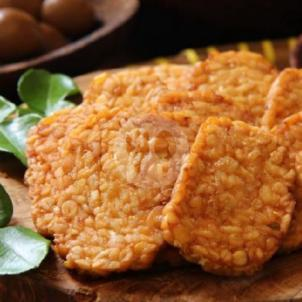Tempe: (151, 117, 279, 277), (65, 108, 176, 268)
